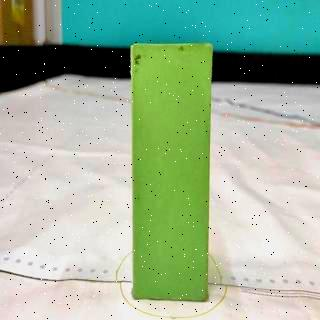greenbox: (132, 44, 208, 302)
